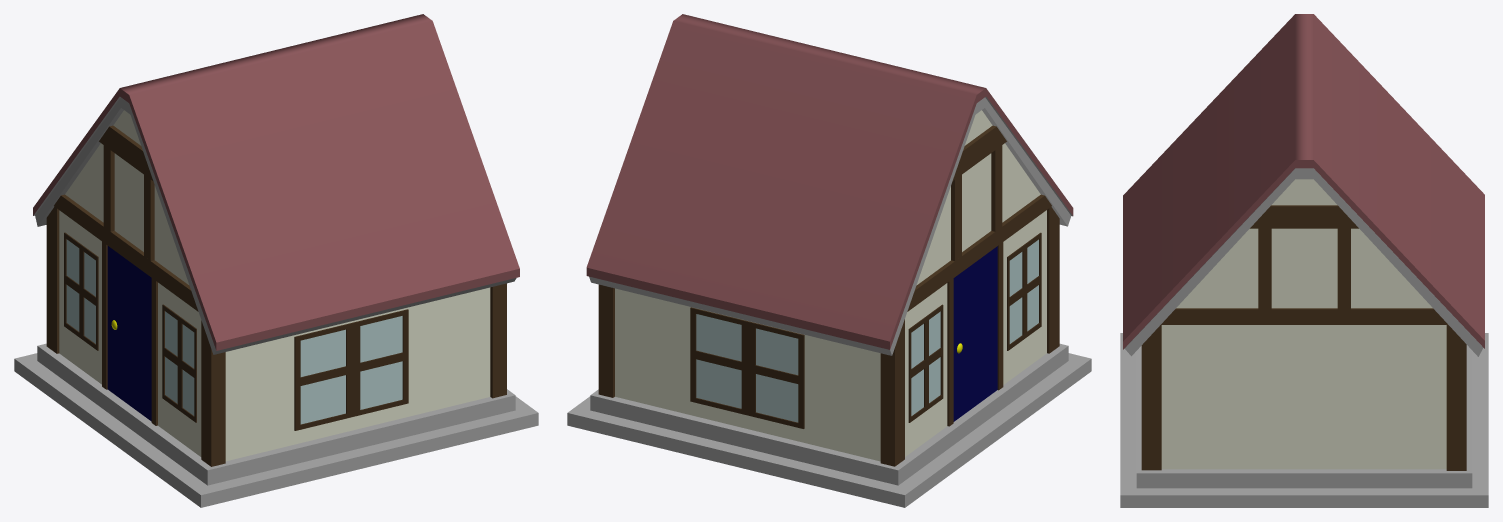
The model's file is houseLevel2.fbx.
3 views of the same model, side by side, from view 1: azimuth 30°, elevation 25°; view 2: azimuth 150°, elevation 25°; view 3: azimuth 270°, elevation 25° (orthographic).
Parts seen in each view (by area): view 1: polySurface34; view 2: polySurface34; view 3: polySurface34.
Part boxes in pixels (box(x1,y1,x2,y2)): polySurface34: box(14, 14, 538, 507); polySurface34: box(567, 14, 1091, 507); polySurface34: box(1120, 14, 1488, 507).
Size of the model in its own units: 6.57 by 6.4 by 6.29.
